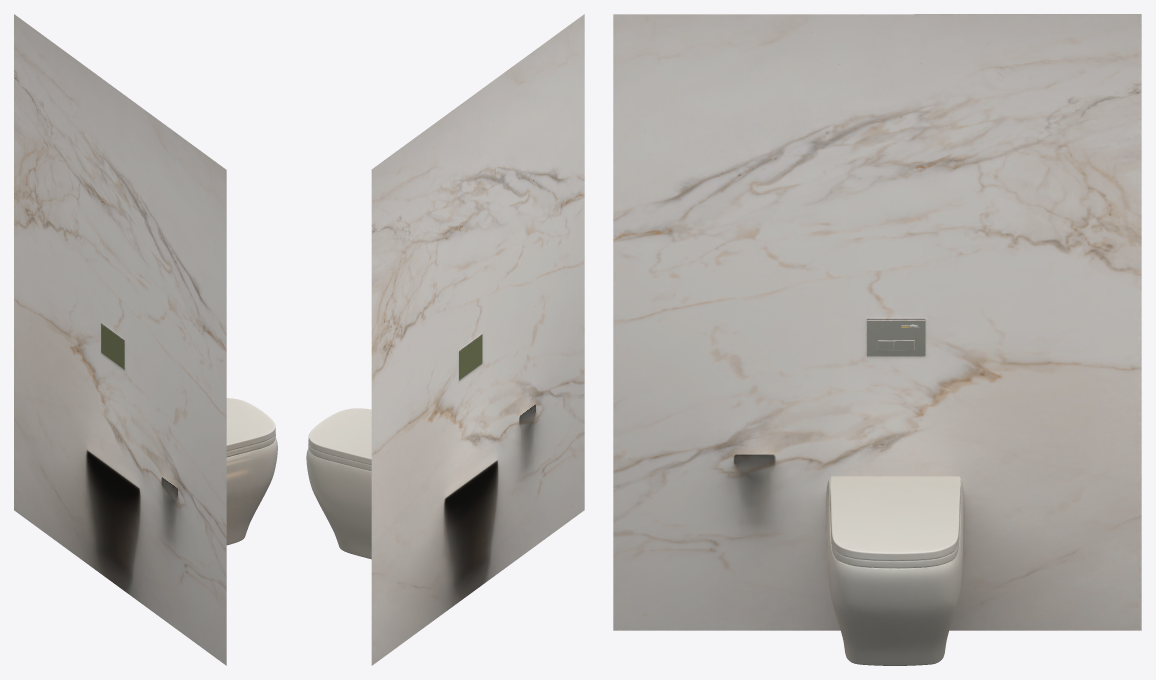
The model's file is element_plus_wc.glb.
The picture shows the model from 3 angles, left to right: view 1: azimuth 30°, elevation 25°; view 2: azimuth 150°, elevation 25°; view 3: azimuth 270°, elevation 25°; orthographic projection. The views are drawn at different scales.
Visible parts, largest first — view 1: element_plus_wc; view 2: element_plus_wc; view 3: element_plus_wc.
Part boxes in pixels (x1,y1,x2,y2): element_plus_wc: (14, 14, 277, 665); element_plus_wc: (306, 14, 584, 665); element_plus_wc: (613, 14, 1141, 665).
Size of the model in its own units: 0.798 by 2.5 by 1.94.
Materials: 1 (1 with a texture image).
